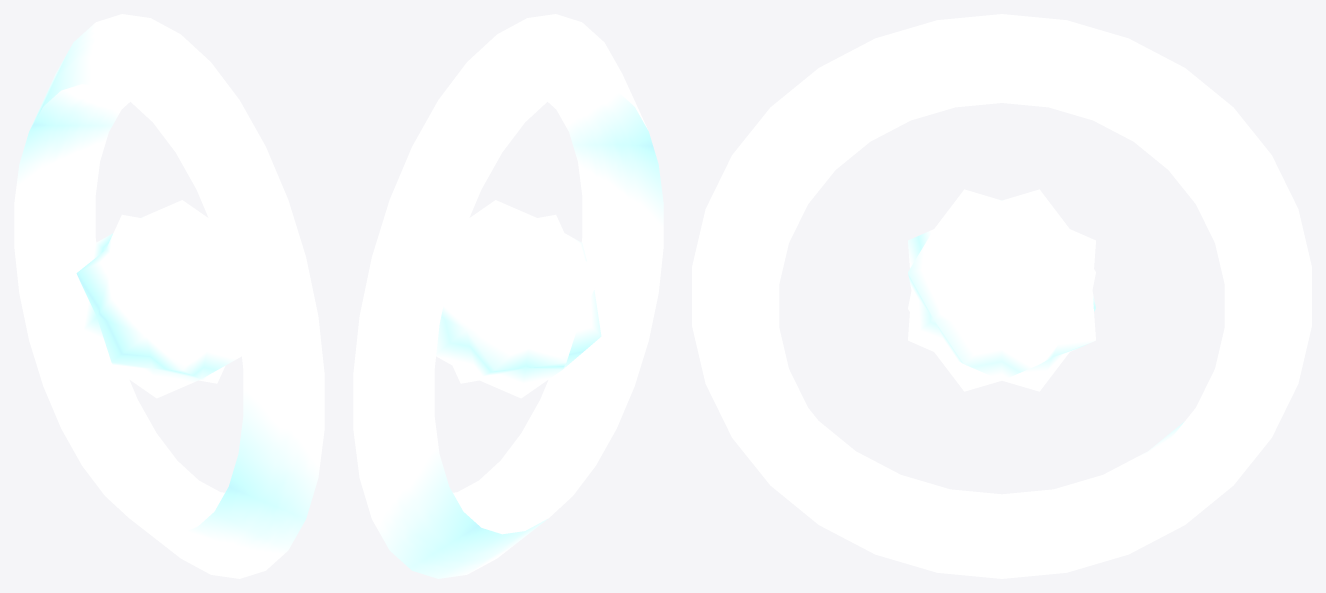
Rendered from block.fbx.
3 views of the same model, side by side, from view 1: azimuth 30°, elevation 25°; view 2: azimuth 150°, elevation 25°; view 3: azimuth 270°, elevation 25° (orthographic). The views are drawn at different scales.
Visible parts, largest first — view 1: Block; view 2: Block; view 3: Block.
Boxes of the visible parts, x1,y1,x2,y2 form: Block: [14, 14, 324, 578]; Block: [353, 14, 663, 578]; Block: [692, 14, 1311, 578].
Size of the model in its own units: 36.87 by 122 by 121.
